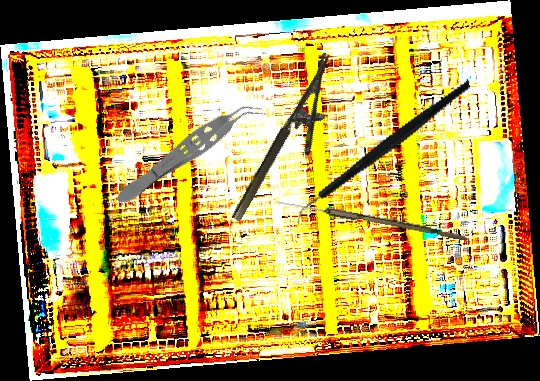Chopper: (271, 77, 496, 231)
Needle Holder: (229, 52, 357, 235)
Surgical Spoon: (274, 198, 469, 241)
Tissue Forceps: (110, 91, 267, 213)
